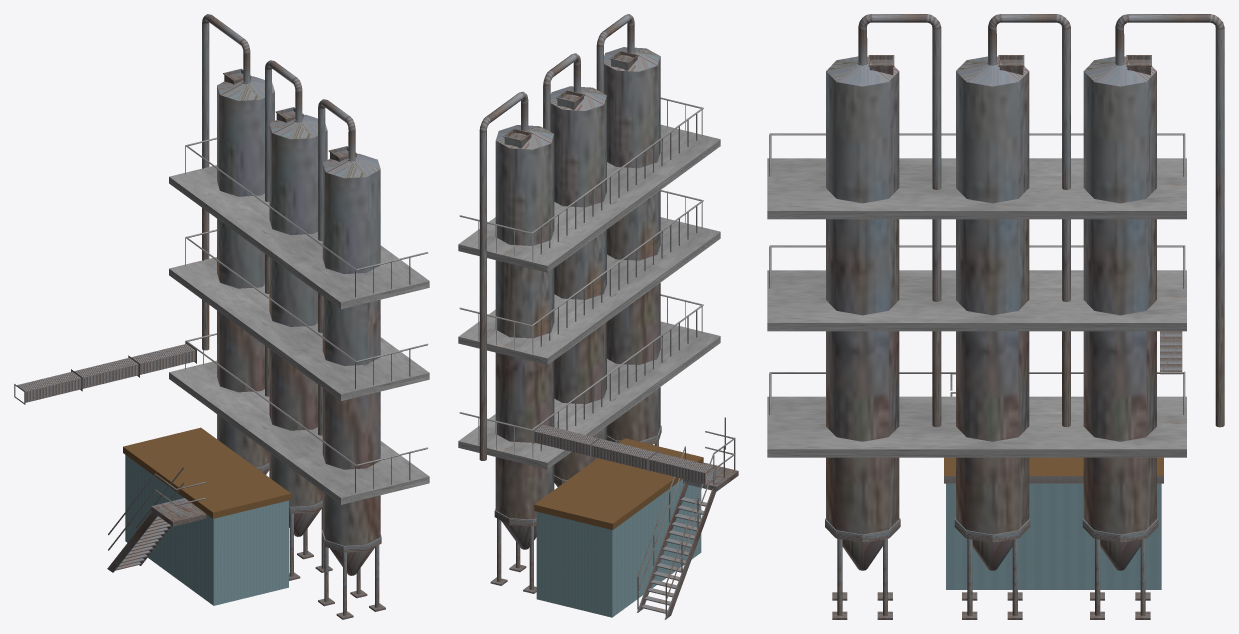
The model's file is changfang08.gltf.
3 views of the same model, side by side, from view 1: azimuth 30°, elevation 25°; view 2: azimuth 150°, elevation 25°; view 3: azimuth 270°, elevation 25° (orthographic). The views are drawn at different scales.
Parts seen in each view (by area): view 1: changfang08_10, changfang08_21, changfang08_38, changfang08_46, changfang08_48, changfang08_47, changfang08_42, changfang08_23, changfang08_43, changfang08_26, changfang08_6, changfang08_16 (+3 smaller); view 2: changfang08_46, changfang08_10, changfang08_21, changfang08_38, changfang08_47, changfang08_48, changfang08_42, changfang08_23, changfang08_6, changfang08_16, changfang08_24, changfang08_43 (+4 smaller); view 3: changfang08_38, changfang08_46, changfang08_21, changfang08_47, changfang08_48, changfang08_42, changfang08_10, changfang08_23, changfang08_43, changfang08_26, changfang08_24.
Boxes of the visible parts, box(x1,y1,x2,y2) form: changfang08_10: box(123, 427, 291, 605); changfang08_21: box(318, 146, 385, 619); changfang08_38: box(269, 107, 332, 580); changfang08_46: box(217, 68, 274, 474); changfang08_48: box(169, 137, 429, 309); changfang08_47: box(169, 229, 429, 400); changfang08_42: box(169, 333, 429, 504); changfang08_23: box(202, 14, 250, 350); changfang08_43: box(318, 99, 355, 435); changfang08_26: box(265, 60, 302, 396); changfang08_6: box(14, 369, 82, 404); changfang08_16: box(74, 355, 139, 388); changfang08_46: box(490, 125, 554, 593); changfang08_10: box(534, 438, 703, 617); changfang08_21: box(604, 47, 661, 446); changfang08_38: box(550, 86, 606, 486); changfang08_47: box(458, 190, 720, 365); changfang08_48: box(458, 97, 720, 272); changfang08_42: box(458, 294, 720, 469); changfang08_23: box(479, 91, 528, 460); changfang08_6: box(647, 450, 716, 486); changfang08_16: box(590, 436, 658, 471); changfang08_24: box(532, 422, 598, 456); changfang08_43: box(596, 14, 634, 93); changfang08_38: box(954, 55, 1030, 619); changfang08_46: box(1082, 55, 1158, 619); changfang08_21: box(825, 55, 900, 619); changfang08_47: box(767, 245, 1186, 331); changfang08_48: box(767, 133, 1186, 219); changfang08_42: box(767, 371, 1186, 457); changfang08_10: box(944, 457, 1163, 589); changfang08_23: box(1115, 14, 1224, 427); changfang08_43: box(858, 14, 941, 427); changfang08_26: box(988, 14, 1070, 427); changfang08_24: box(1160, 340, 1182, 374).
Bounding box in the file's own units: 81.29 × 157 × 108.
4 materials, 3 textured.
